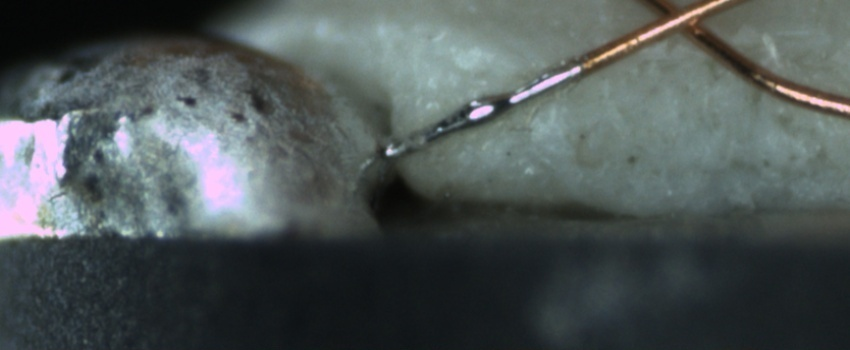CL: (636, 1, 726, 46)
TS: (383, 59, 583, 159)
TTCW: (379, 32, 635, 161)
